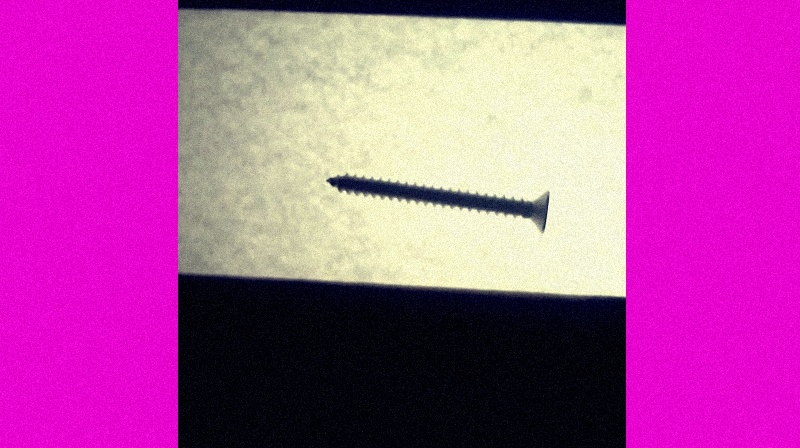S002: (322, 170, 553, 235)
